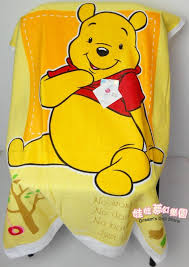Winnie: (64, 3, 146, 103)
